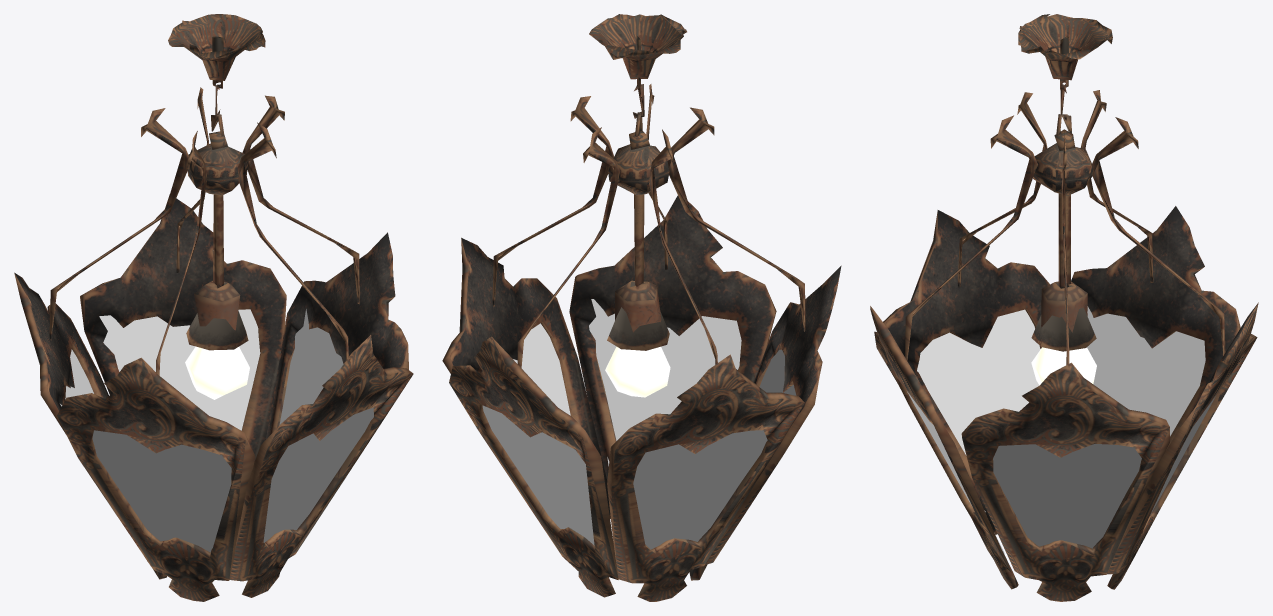
File: LanternChandelierLOD1.fbx
The picture shows the model from 3 angles, left to right: view 1: azimuth 30°, elevation 25°; view 2: azimuth 150°, elevation 25°; view 3: azimuth 270°, elevation 25°; orthographic projection.
Parts seen in each view (by area): view 1: lantern_chandelier_01; view 2: lantern_chandelier_01; view 3: lantern_chandelier_01.
Boxes of the visible parts, left/top/right/bottom form: lantern_chandelier_01: left=14, top=14, right=413, bottom=601; lantern_chandelier_01: left=442, top=14, right=841, bottom=601; lantern_chandelier_01: left=870, top=14, right=1258, bottom=601.
Size of the model in its own units: 57.44 by 87.63 by 55.97.
